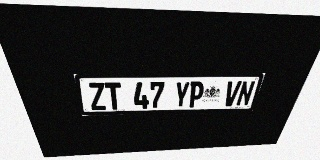4: (133, 82, 149, 109)
7: (149, 82, 165, 109)
N: (235, 81, 256, 106)
P: (187, 81, 205, 108)
T: (104, 82, 122, 110)
V: (222, 81, 242, 106)
Y: (173, 82, 190, 108)
Z: (87, 82, 107, 110)
